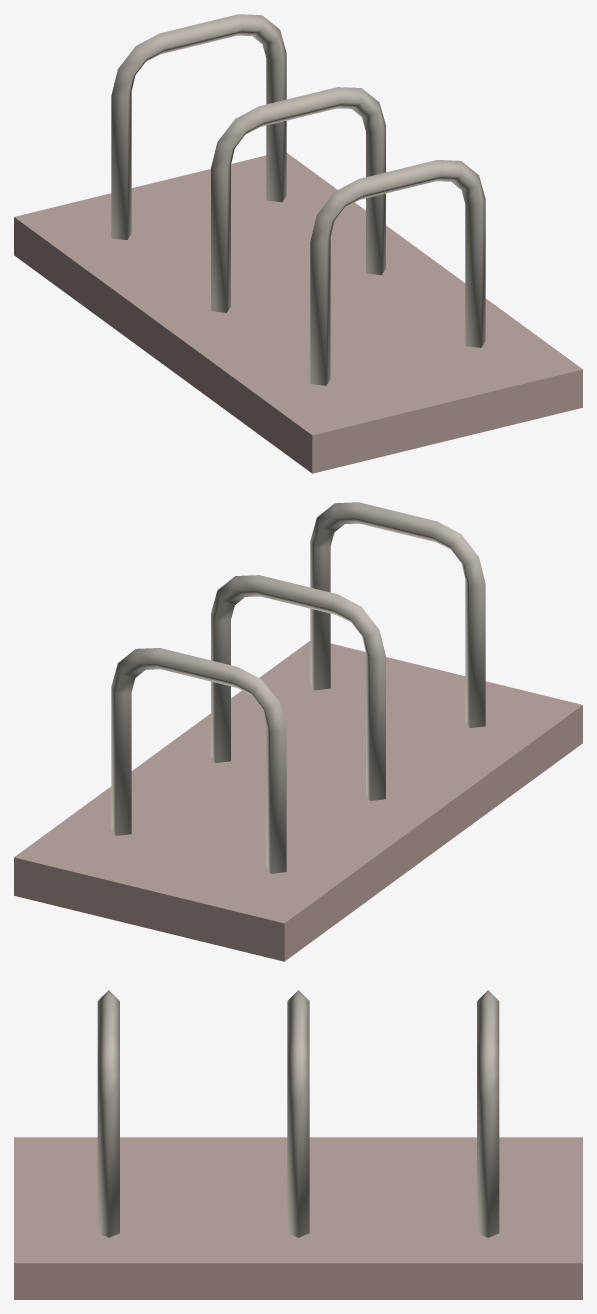
Rendered from prop.bike-rack.lod2.glb.
3 renders of one model, top to bottom at view 1: azimuth 30°, elevation 25°; view 2: azimuth 150°, elevation 25°; view 3: azimuth 270°, elevation 25°, orthographic. The views are drawn at different scales.
Parts seen in each view (by area): view 1: body, object 1; view 2: body, object 1; view 3: body, object 1.
Boxes of the visible parts, x1=… form: body: x1=14, y1=153, x2=582, y2=473; object 1: x1=111, y1=14, x2=485, y2=385; body: x1=14, y1=641, x2=582, y2=961; object 1: x1=111, y1=502, x2=485, y2=873; body: x1=14, y1=1137, x2=582, y2=1299; object 1: x1=97, y1=990, x2=499, y2=1237.
Size of the model in its own units: 1.26 by 1.04 by 2.4.
